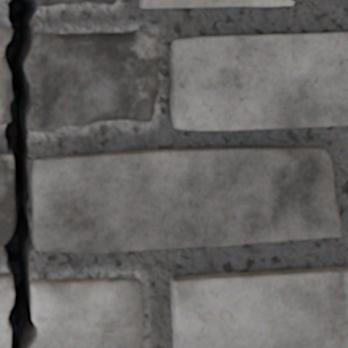brick: (31, 146, 340, 252), (170, 32, 347, 129), (171, 266, 347, 347), (0, 153, 14, 245), (140, 0, 293, 7)
broken_brick: (26, 31, 158, 132), (31, 277, 143, 347), (0, 26, 11, 124), (0, 273, 12, 347), (37, 0, 116, 7), (0, 0, 7, 3)
crack: (2, 0, 38, 347), (290, 0, 296, 5)
